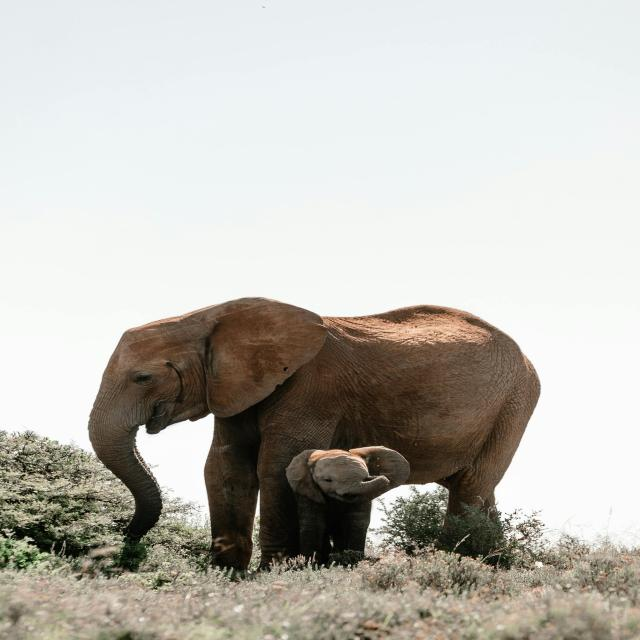Elephant: (87, 294, 542, 574), (285, 446, 411, 568)
